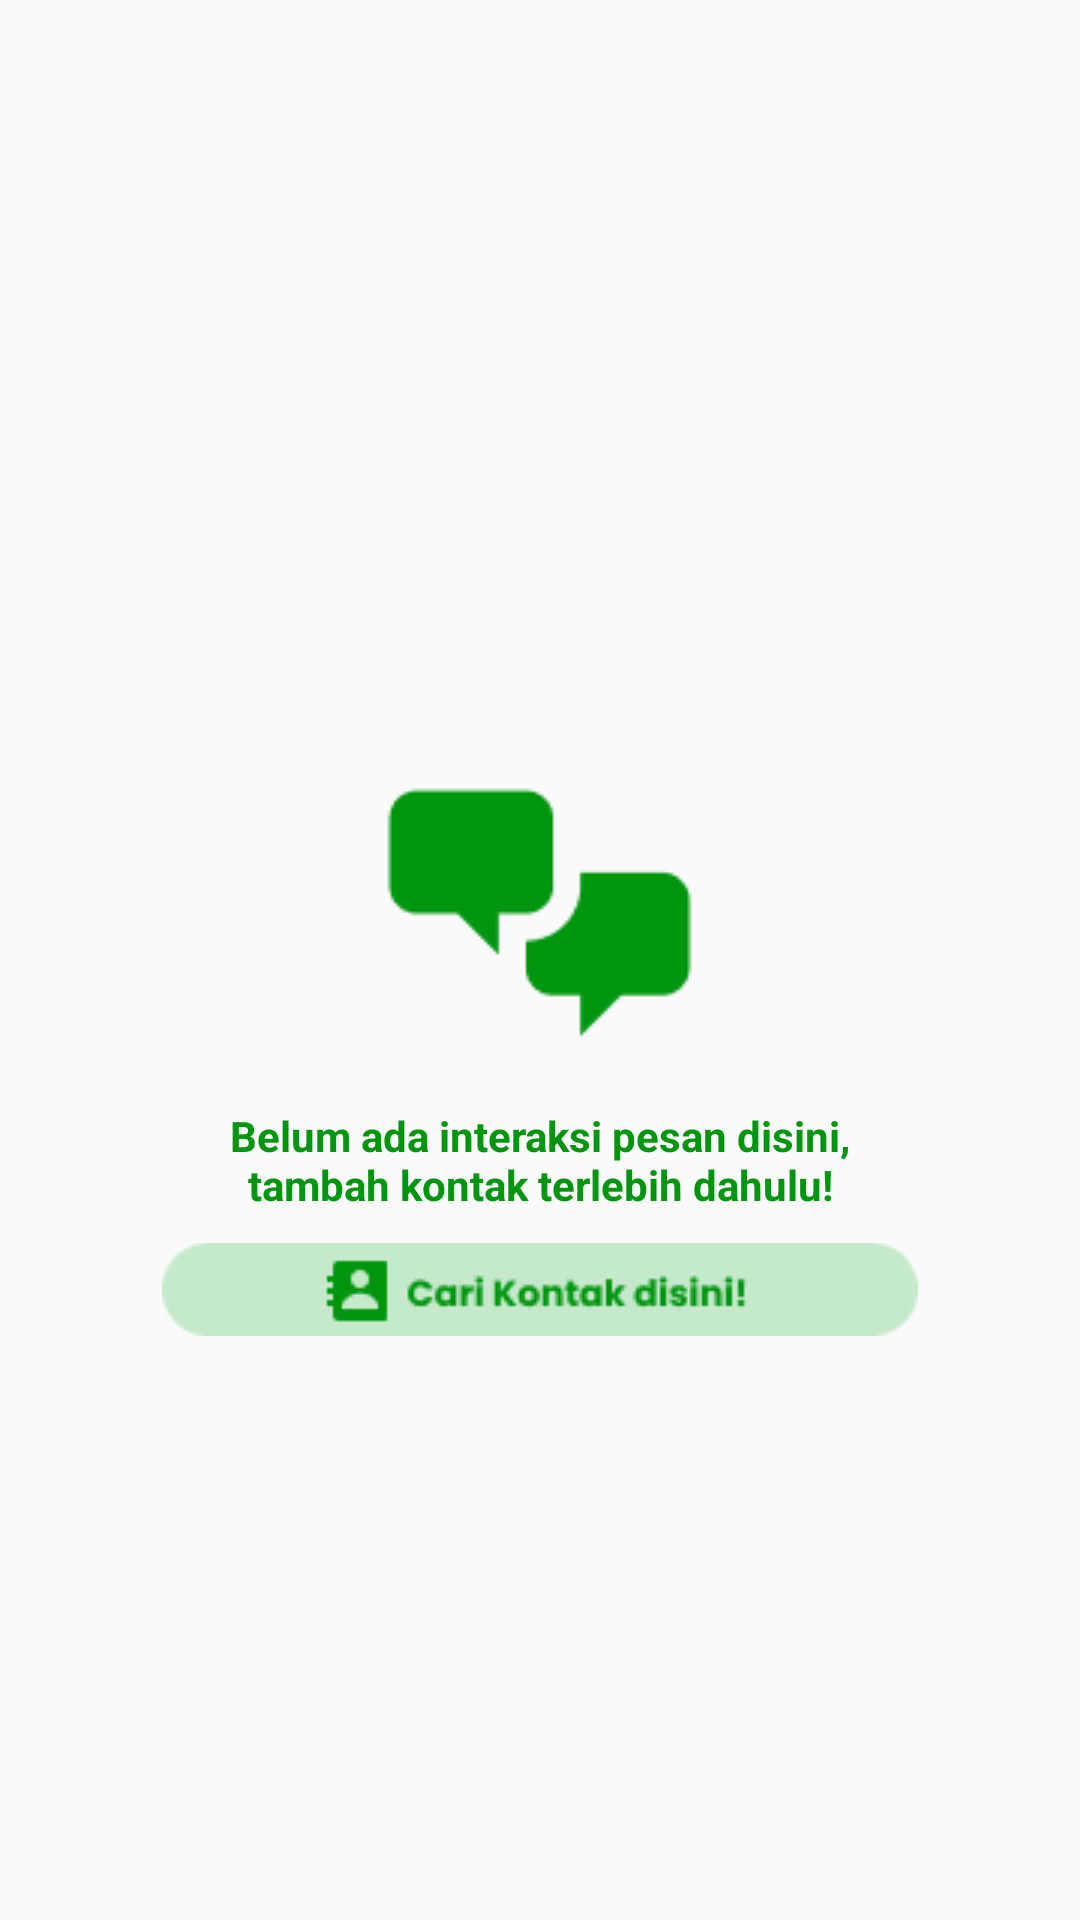

Where to tap for icons on this 1080px×1920px app screen, as (x,y):
gridicons chat: (539,912)
